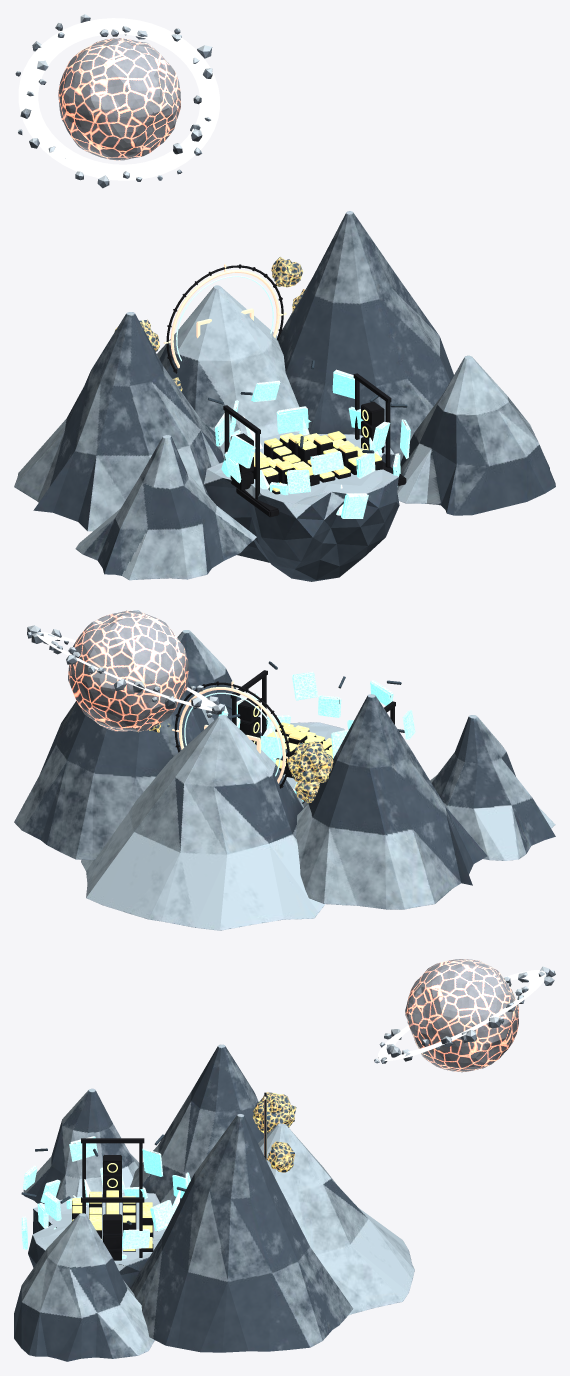
The model's file is fludd_props.glb.
3 views of the same model, one above another, from view 1: azimuth 30°, elevation 25°; view 2: azimuth 150°, elevation 25°; view 3: azimuth 270°, elevation 25° (orthographic). The views are drawn at different scales.
Visible parts, largest first — view 1: fludd_mountains, fludd_moon, fludd_equalizer, fludd_ice_cube, fludd_rings000; view 2: fludd_mountains, fludd_moon, fludd_rings000, fludd_ice_cube, fludd_equalizer; view 3: fludd_mountains, fludd_moon, fludd_equalizer, fludd_ice_cube, fludd_rings000.
Boxes of the visible parts, box(x1,y1,x2,y2) form: fludd_mountains: box(14, 211, 555, 581); fludd_moon: box(15, 14, 219, 188); fludd_equalizer: box(223, 373, 406, 517); fludd_ice_cube: box(208, 360, 410, 518); fludd_rings000: box(114, 257, 304, 391); fludd_mountains: box(14, 610, 555, 930); fludd_moon: box(27, 610, 224, 731); fludd_rings000: box(137, 681, 333, 803); fludd_ice_cube: box(218, 661, 415, 801); fludd_equalizer: box(230, 670, 395, 777); fludd_mountains: box(14, 1044, 414, 1361); fludd_moon: box(374, 959, 555, 1072); fludd_equalizer: box(72, 1138, 160, 1260); fludd_ice_cube: box(21, 1134, 191, 1258); fludd_rings000: box(252, 1092, 296, 1181).
Size of the model in its own units: 43.51 by 36.79 by 49.62.
Materials: 5 (5 with a texture image).
